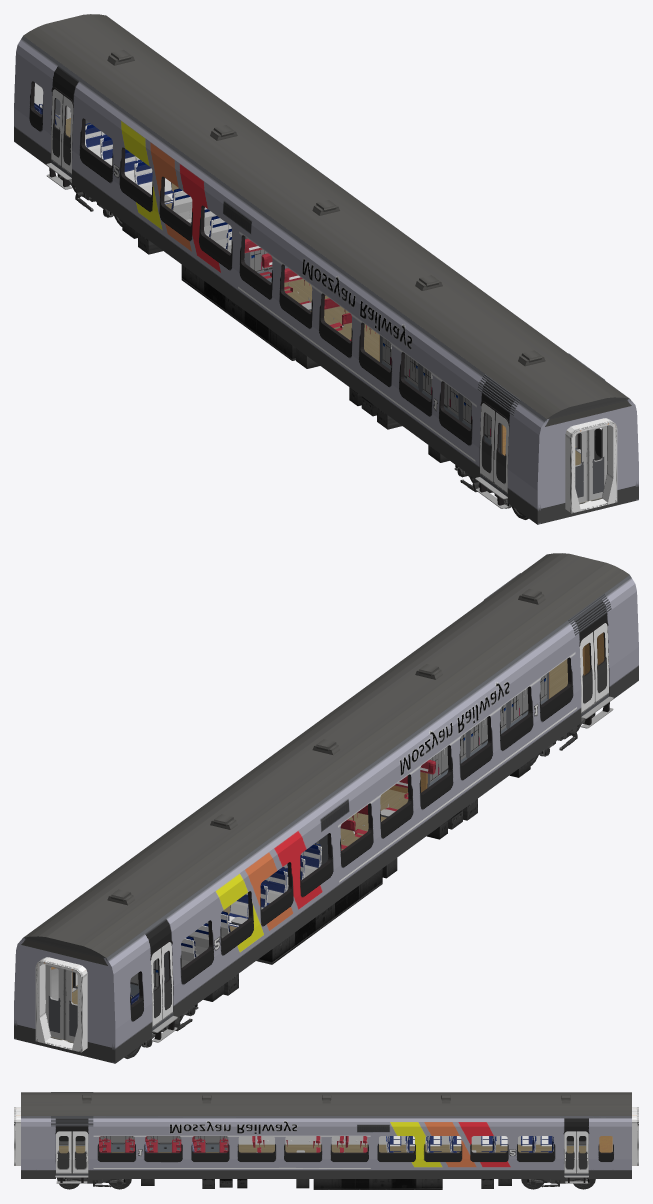
File: mrwicmcarriage.obj
The picture shows the model from 3 angles, top to bottom: view 1: azimuth 30°, elevation 25°; view 2: azimuth 150°, elevation 25°; view 3: azimuth 270°, elevation 25°; orthographic projection. The views are drawn at different scales.
Visible parts, largest first — view 1: side, jibung, backout, habu, chair_second, canmagi, mak, jibungparts, backdoor, badak, door_RB, door_RF (+3 smaller); view 2: side, jibung, backout, habu, canmagi, chair_second, mak, jibungparts, backdoor, badak, door_RF, door_RB (+3 smaller); view 3: side, jibung, habu, badak, chair_second, inside, DT71, door_LB, door_LF, tongilchair, canmagi, jibungparts (+6 smaller).
Part boxes in pixels (x1,y1,x2,y2): side: (14, 21, 638, 524); jibung: (23, 14, 628, 418); backout: (541, 397, 635, 523); habu: (122, 221, 449, 462); chair_second: (85, 123, 311, 310); canmagi: (85, 120, 501, 453); mak: (66, 118, 617, 513); jibungparts: (107, 50, 605, 415); backdoor: (55, 98, 606, 503); badak: (65, 118, 600, 503); door_RB: (51, 89, 495, 483); door_RF: (61, 95, 508, 493); side: (14, 560, 638, 1063); jibung: (24, 553, 629, 957); backout: (17, 936, 111, 1062); habu: (203, 760, 530, 1001); canmagi: (130, 672, 549, 998); chair_second: (181, 809, 395, 967); mak: (35, 957, 87, 1052); jibungparts: (107, 573, 611, 905); backdoor: (46, 965, 77, 1042); badak: (52, 659, 567, 1042); door_RF: (161, 623, 608, 1019); door_RB: (151, 631, 594, 1026); side: (21, 1116, 631, 1178); jibung: (21, 1092, 631, 1115); habu: (141, 1179, 511, 1189); badak: (59, 1144, 586, 1153); chair_second: (296, 1136, 553, 1152); inside: (238, 1136, 553, 1144); DT71: (57, 1177, 595, 1189); door_LB: (72, 1131, 588, 1173); door_LF: (56, 1131, 576, 1173); tongilchair: (99, 1136, 228, 1152); canmagi: (99, 1136, 228, 1151); jibungparts: (51, 1092, 570, 1126).
Bounding box in the file's own units: 3.17 × 3.95 × 26.09.
